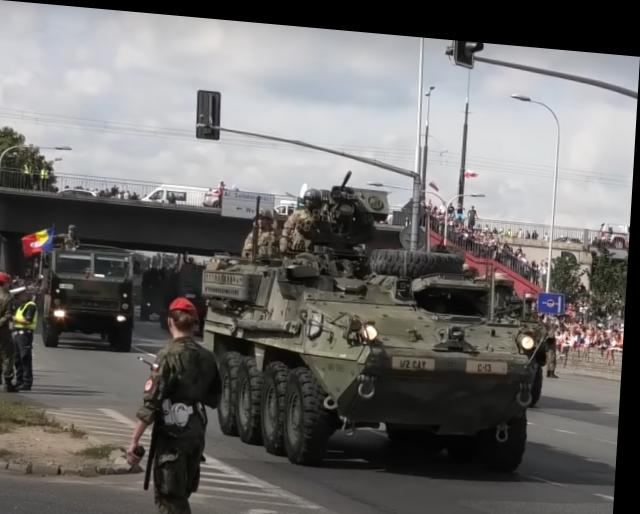other: (142, 295, 221, 512), (282, 178, 327, 244)
